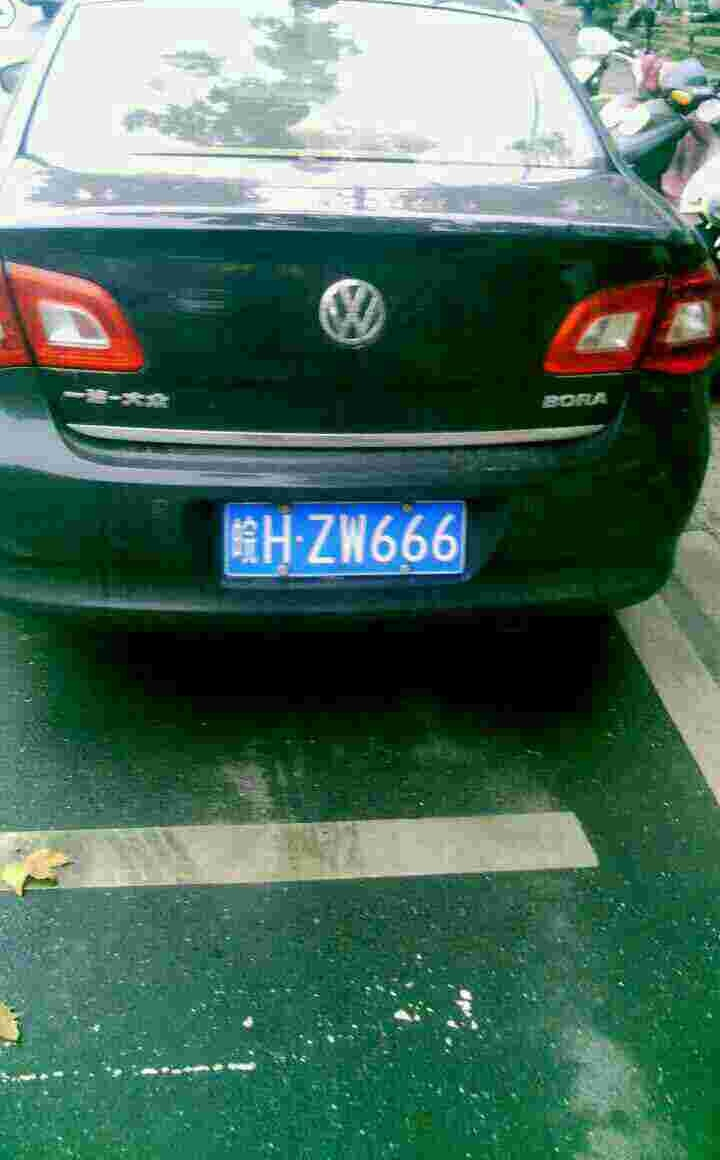license_plate: (216, 500, 481, 574)
